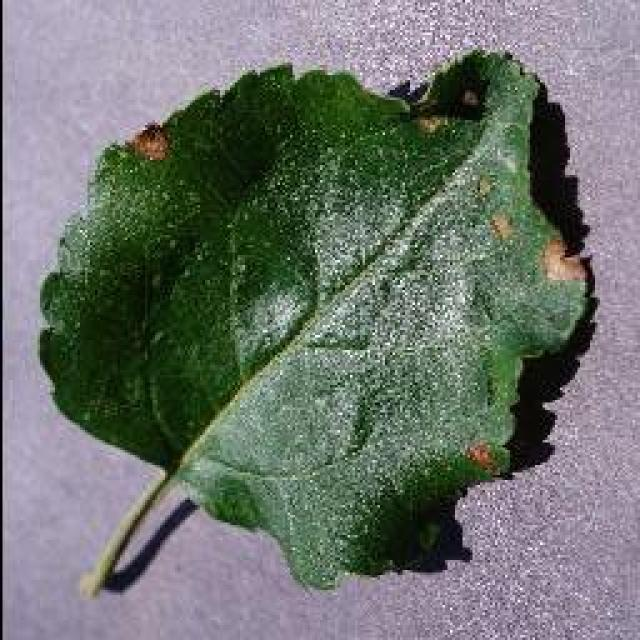apple healthy: (35, 45, 595, 595)
